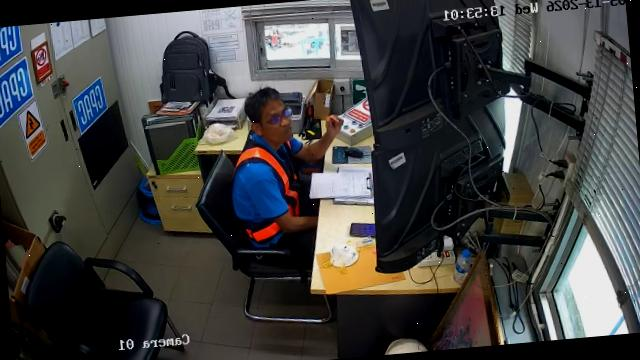Head: (245, 88, 292, 150)
People: (232, 88, 341, 269)
Phone: (349, 223, 375, 237)
